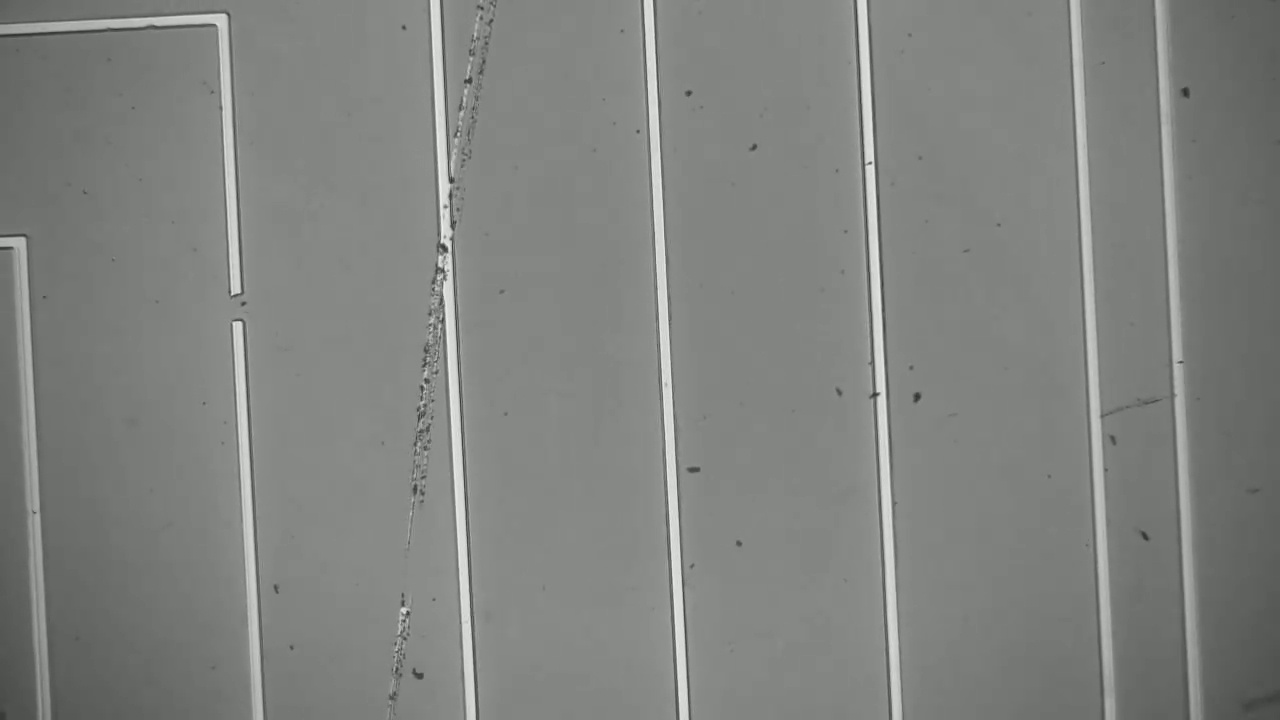open: (211, 272, 262, 340)
scratch: (379, 9, 499, 712), (1096, 383, 1174, 438)
